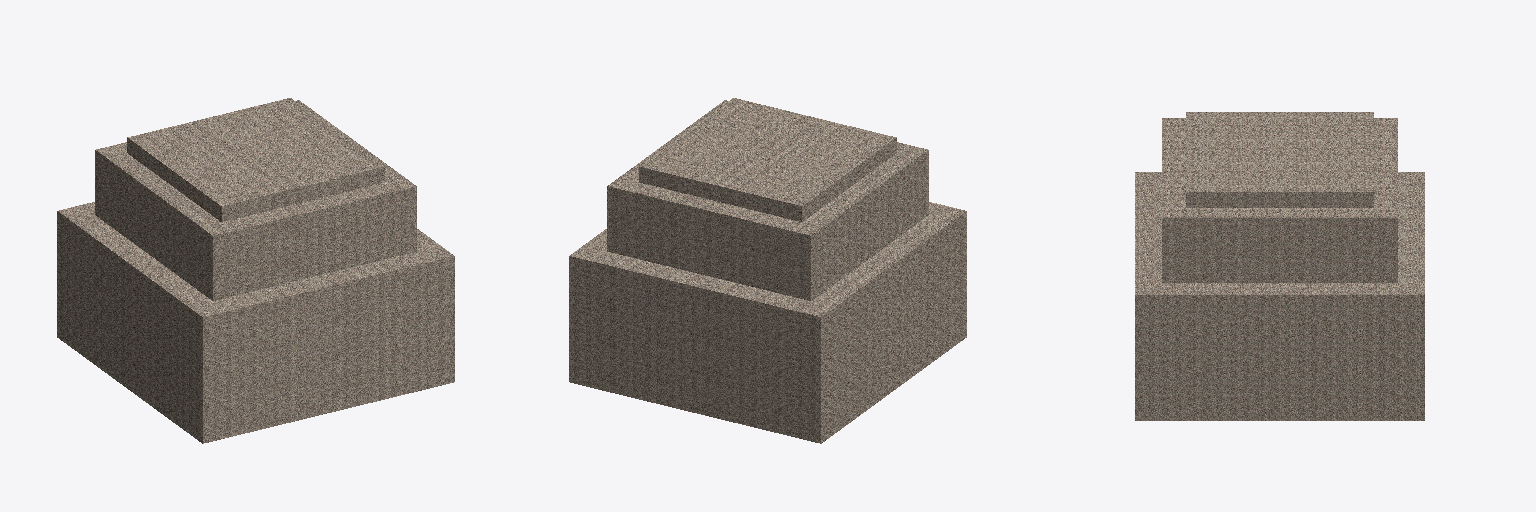
The picture shows the model from 3 angles: view 1: azimuth 30°, elevation 25°; view 2: azimuth 150°, elevation 25°; view 3: azimuth 270°, elevation 25°; orthographic projection.
Parts seen in each view (by area): view 1: Mesh1 Model; view 2: Mesh1 Model; view 3: Mesh1 Model.
Part boxes in pixels (x1,y1,x2,y2): Mesh1 Model: (57,98,454,443); Mesh1 Model: (569,98,966,443); Mesh1 Model: (1135,112,1424,420).
Bounding box in the file's own units: 2.14 × 1.69 × 2.14.
1 materials, 1 textured.